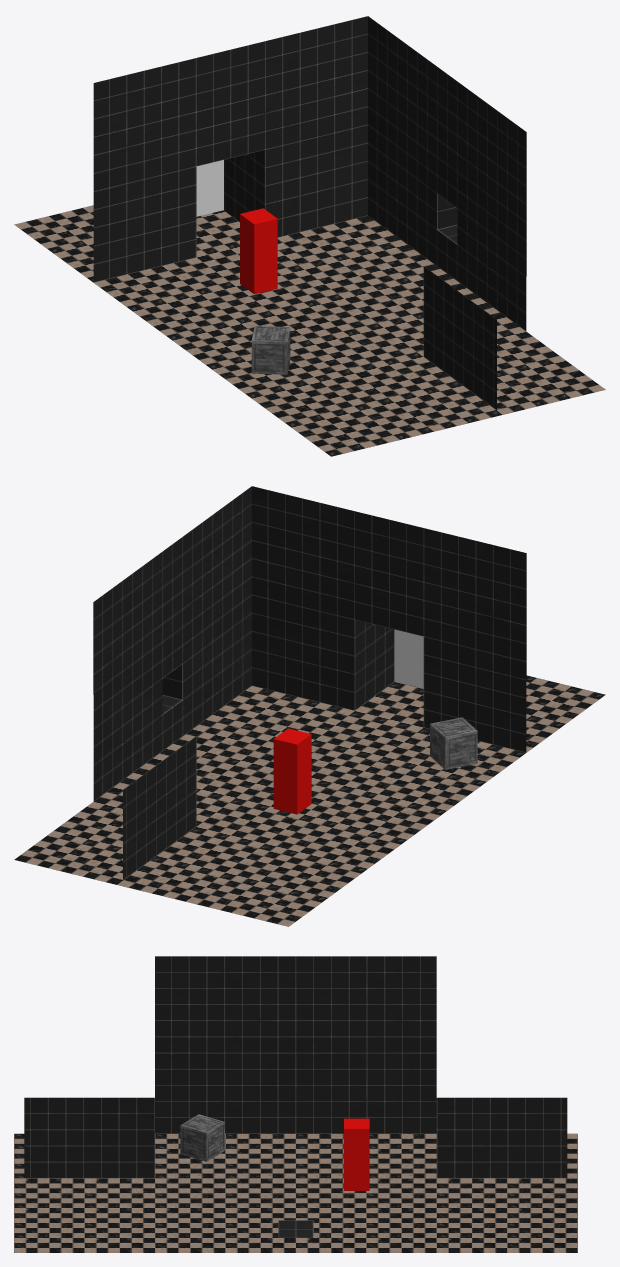
The model's file is room.glb.
3 views of the same model, one above another, from view 1: azimuth 30°, elevation 25°; view 2: azimuth 150°, elevation 25°; view 3: azimuth 270°, elevation 25° (orthographic). The views are drawn at different scales.
Parts seen in each view (by area): view 1: Room, Player, Crate, WidePortalB; view 2: Room, Player, Crate, WidePortalA; view 3: Room, Player, Crate.
Part boxes in pixels (x1=…): Room: x1=14, y1=16, x2=605, y2=456; Player: x1=240, y1=208, x2=277, y2=294; Crate: x1=251, y1=326, x2=290, y2=374; WidePortalB: x1=196, y1=160, x2=223, y2=216; Room: x1=14, y1=486, x2=605, y2=926; Player: x1=273, y1=728, x2=311, y2=814; Crate: x1=430, y1=717, x2=477, y2=769; WidePortalA: x1=394, y1=629, x2=423, y2=688; Room: x1=14, y1=956, x2=577, y2=1252; Player: x1=344, y1=1118, x2=369, y2=1190; Crate: x1=180, y1=1114, x2=224, y2=1161.
Size of the model in its own units: 9.46 by 5.79 by 17.24.
Materials: 4 (3 with a texture image).
